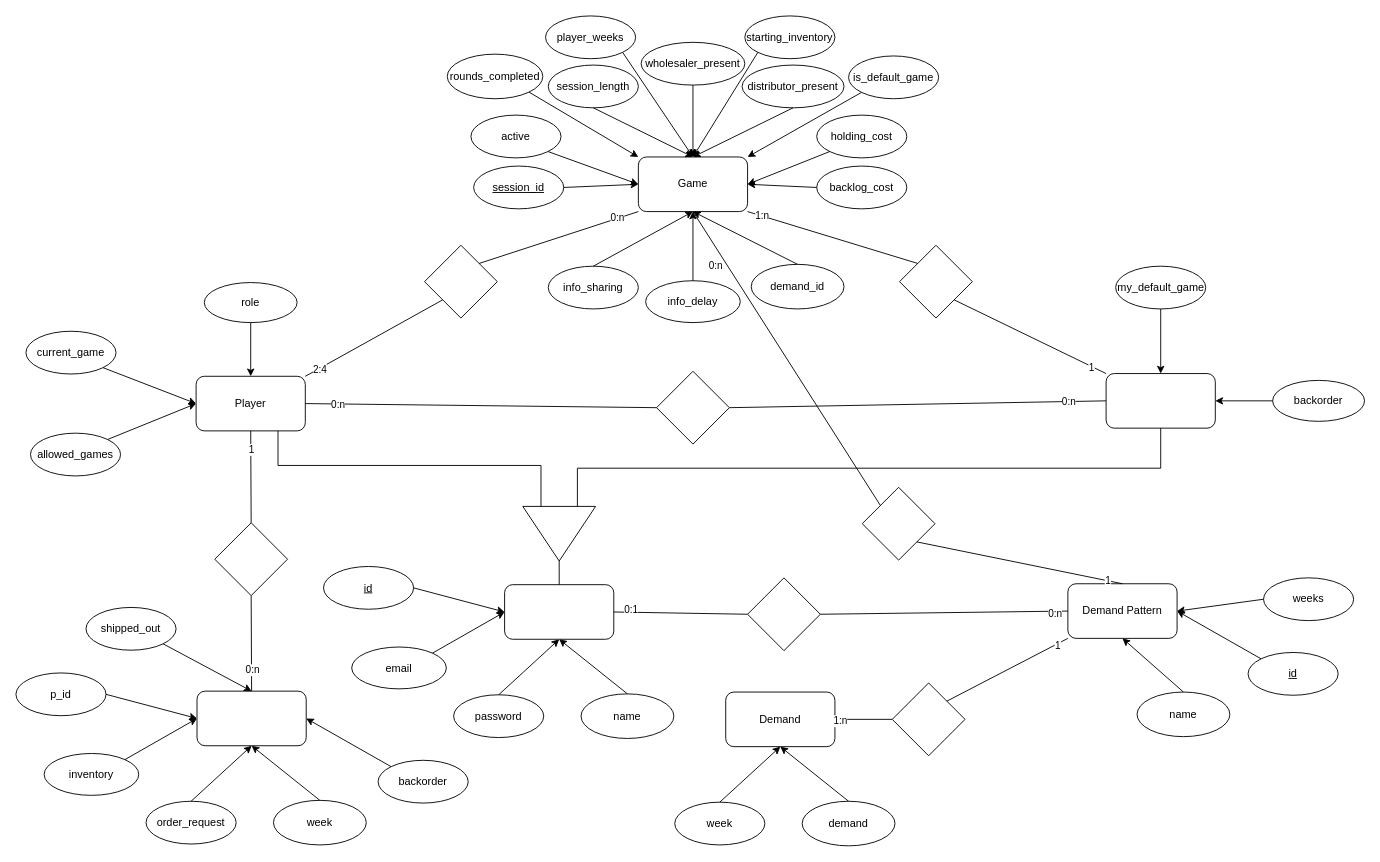
Image size: 1380x862. Some labels were removed from this diagram. The shapes that lost their labels are listed below. From the top down, each one's box as (x1, y1, x2, y2) in pixels, then its label:
(424, 244, 497, 318): Plays_In
(899, 244, 972, 318): Monitors
(656, 370, 729, 444): Instructs
(1105, 373, 1215, 428): Instructor
(522, 506, 596, 561): ISA
(861, 486, 935, 560): Used_In
(214, 522, 288, 596): Has
(504, 584, 614, 639): User
(747, 577, 820, 651): Created
(196, 690, 306, 746): Round History
(891, 682, 965, 756): Belongs_To
